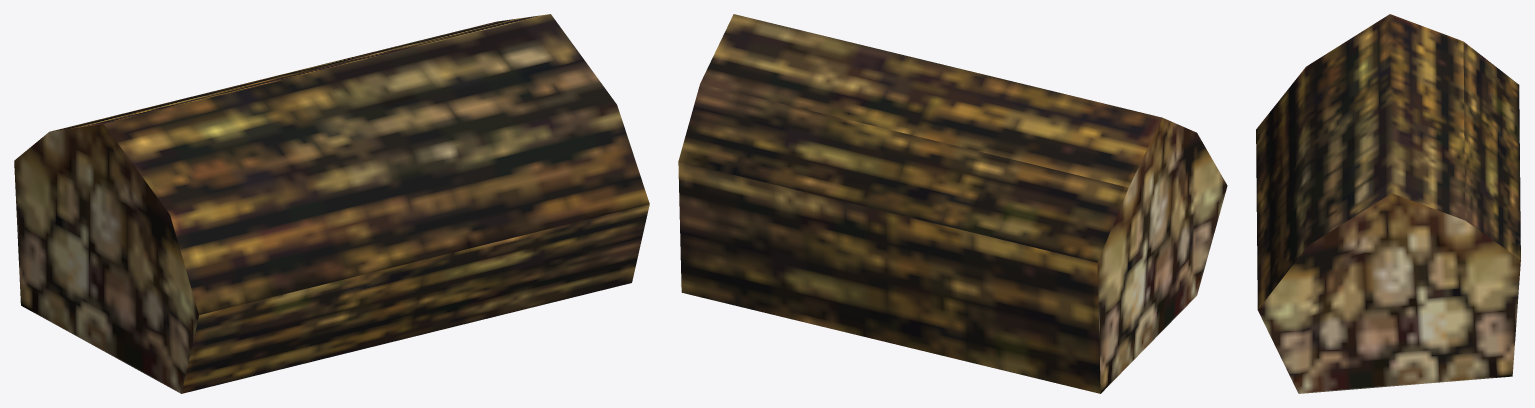
Rendered from wood_shuttle.dae.
3 views of the same model, side by side, from view 1: azimuth 30°, elevation 25°; view 2: azimuth 150°, elevation 25°; view 3: azimuth 270°, elevation 25° (orthographic). The views are drawn at different scales.
Visible parts, largest first — view 1: woodcord01; view 2: woodcord01; view 3: woodcord01.
Part boxes in pixels (box(x1,y1,x2,y2)): woodcord01: box(14, 14, 649, 393); woodcord01: box(678, 14, 1227, 393); woodcord01: box(1256, 14, 1520, 393).
Bounding box in the file's own units: 1.59 × 0.7329 × 0.9208.
